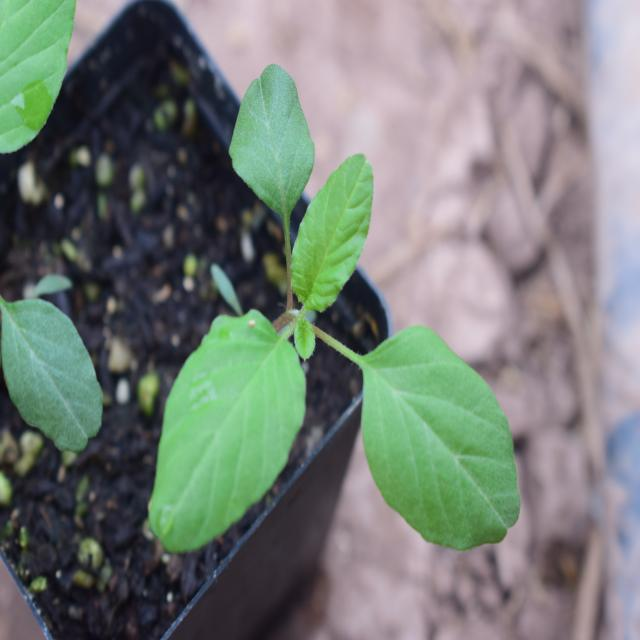pigweed: (155, 77, 517, 565)
